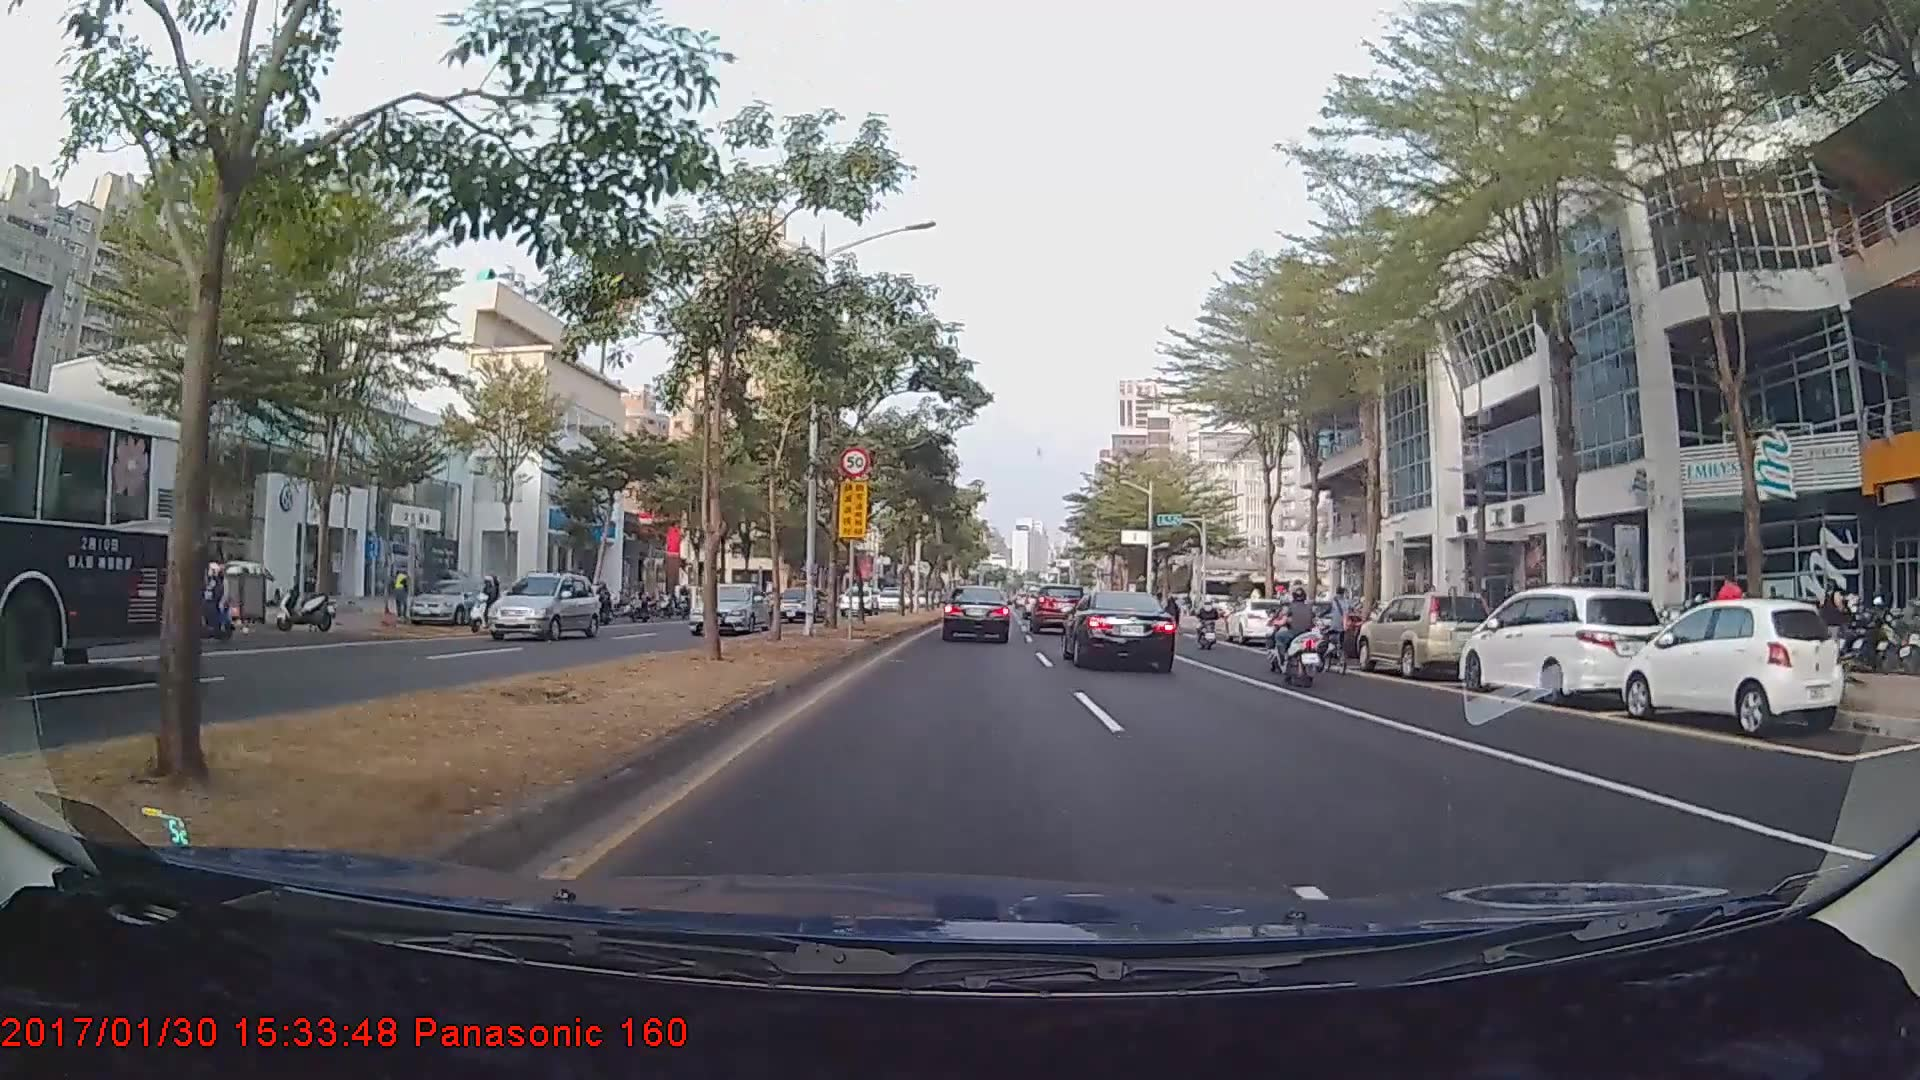rider: (1263, 582, 1336, 686), (470, 570, 511, 635), (1190, 593, 1223, 649)
vehicle: (0, 377, 193, 688), (1624, 596, 1846, 734), (1456, 587, 1666, 700), (1355, 592, 1494, 675), (1064, 586, 1178, 672), (480, 571, 602, 644), (686, 581, 770, 634), (941, 585, 1012, 643), (406, 578, 493, 623), (1227, 595, 1292, 646), (1029, 584, 1079, 633), (767, 586, 827, 625), (838, 587, 876, 614)
